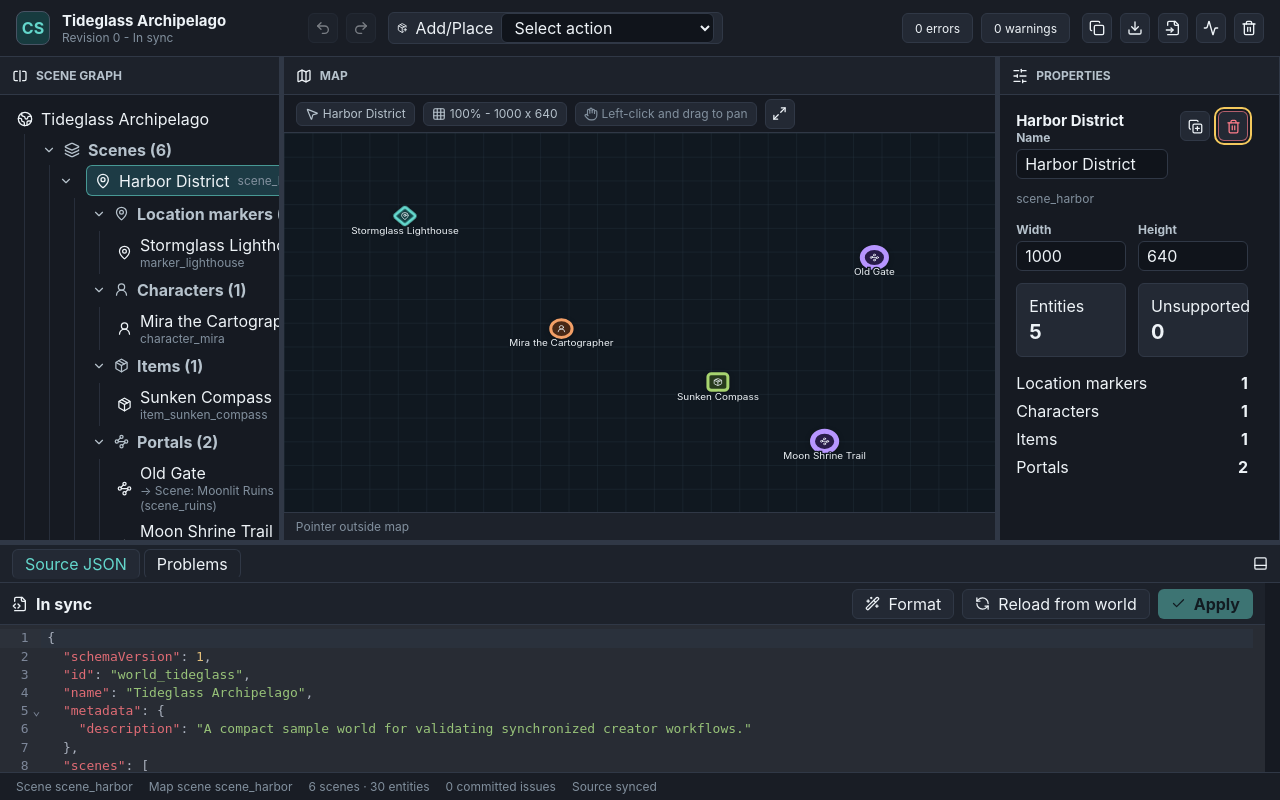
Test: rendered surface equivalence classes › traps focus, cancels with Escape, and returns focus from confirmation dialogs
Click the button named "Delete Harbor District": (1233, 126) x1=1218 y1=111 x2=1248 y2=141
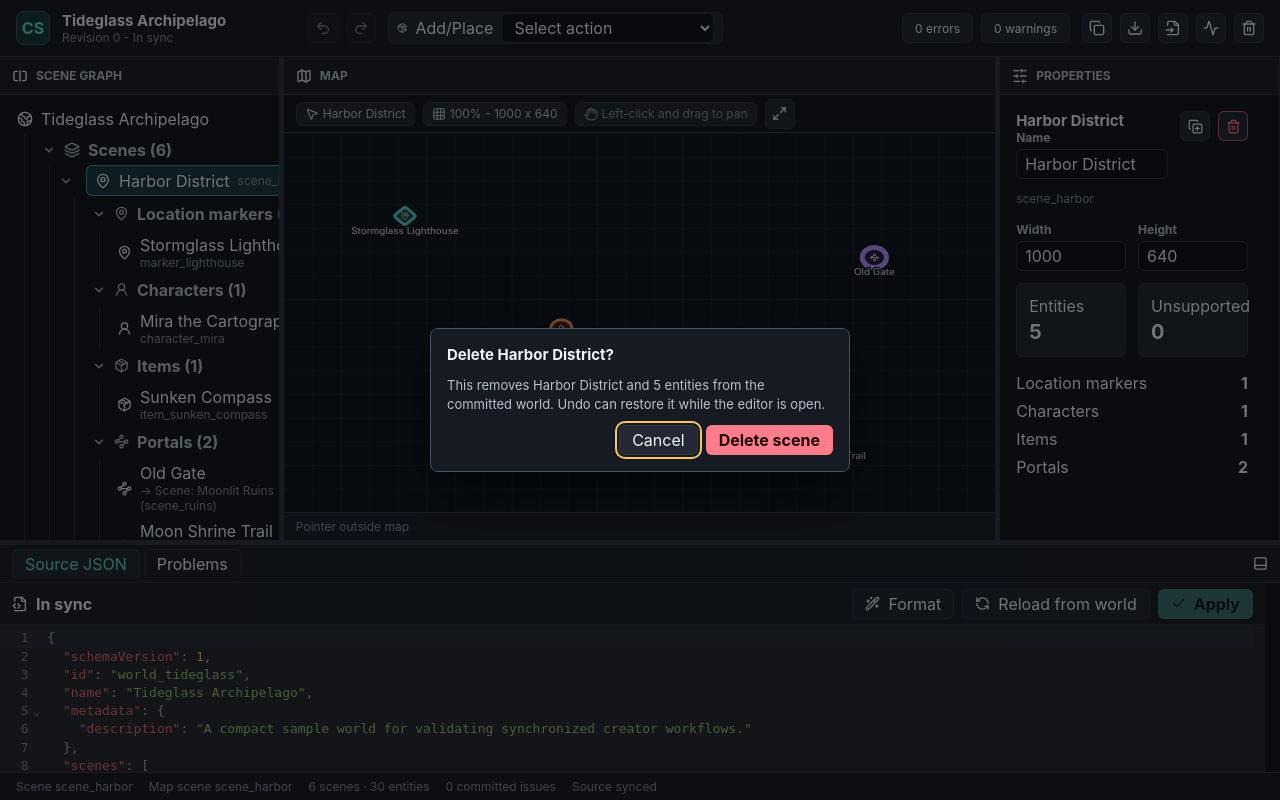
Check: the element that starts with "Tideglass Archipelago" has attribute inert
Check: the element that starts with "Tideglass Archipelago" has attribute aria-hidden="true"
Press Tab in the button "Cancel", box x1=619 y1=425 x2=698 y2=455
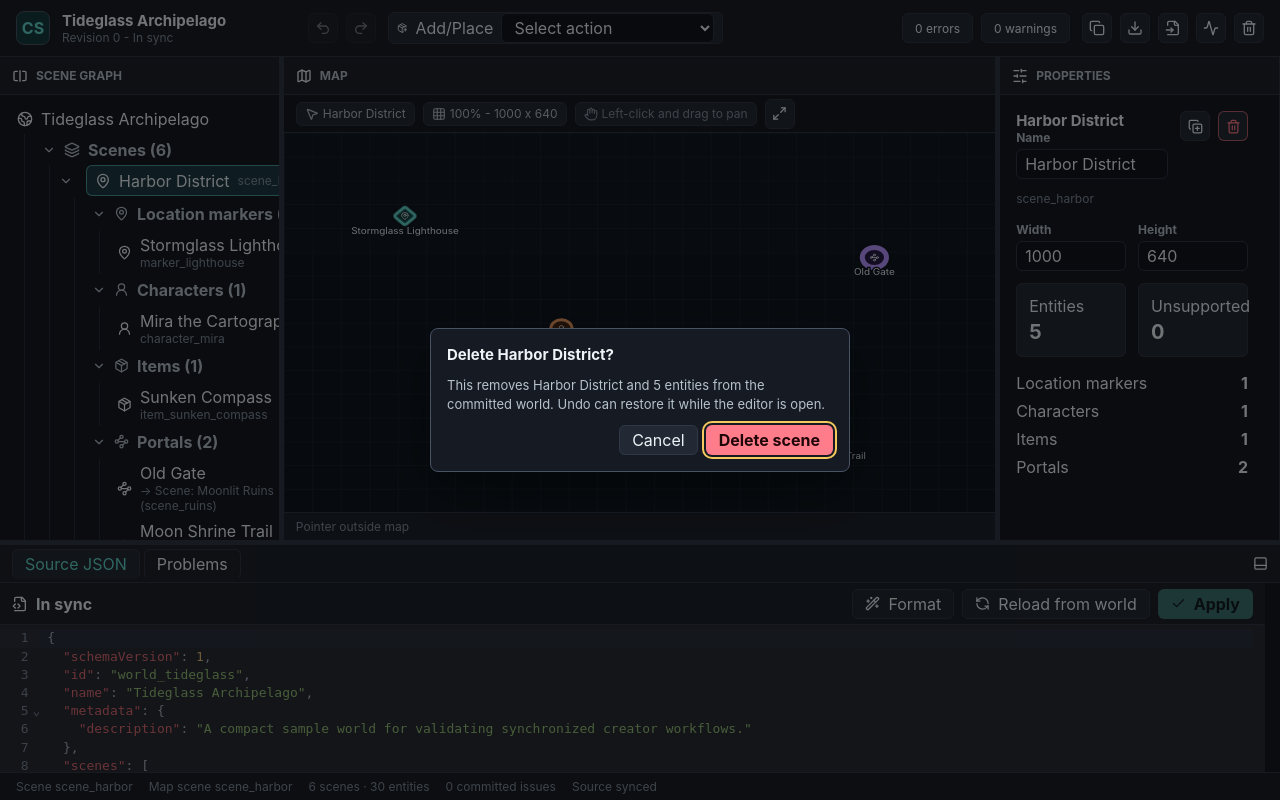
Press Tab in the button "Delete scene", box x1=706 y1=425 x2=833 y2=455
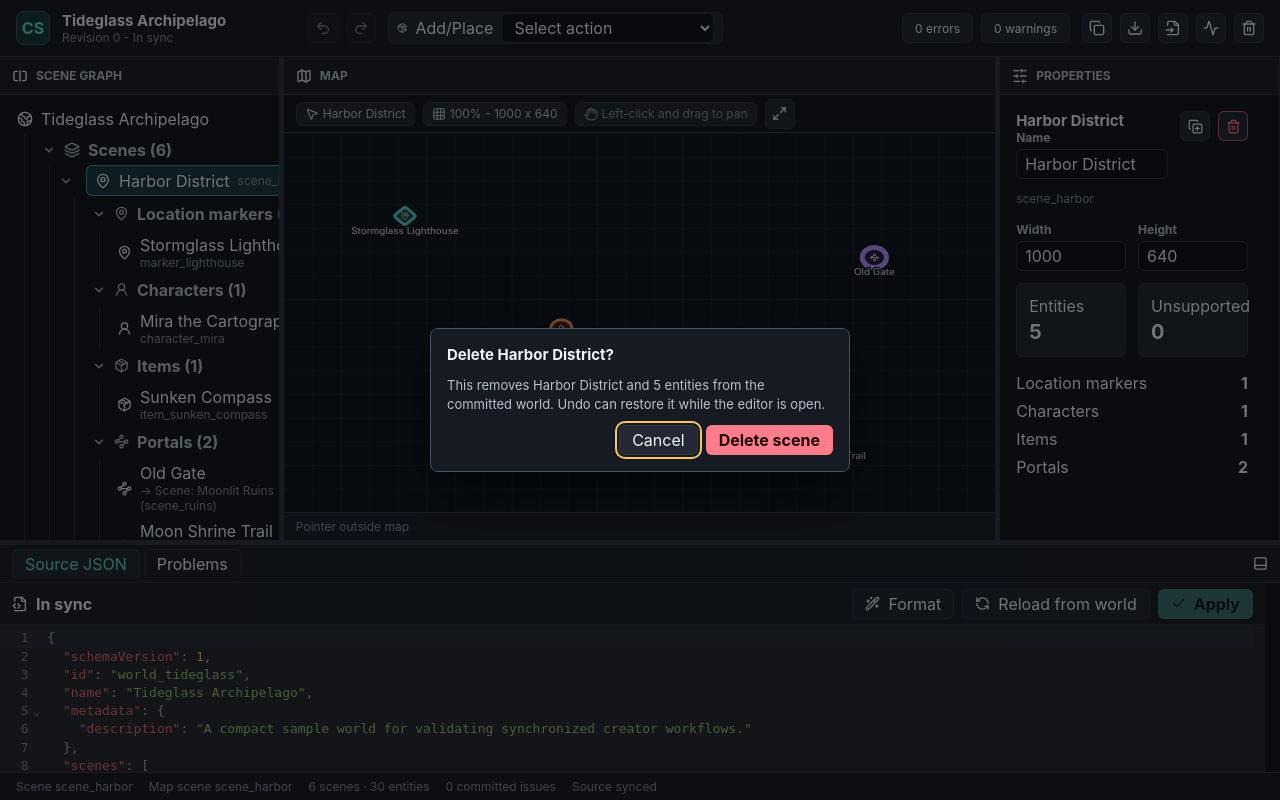
Press Escape in the dialog "Delete Harbor District?", box x1=430 y1=328 x2=850 y2=472
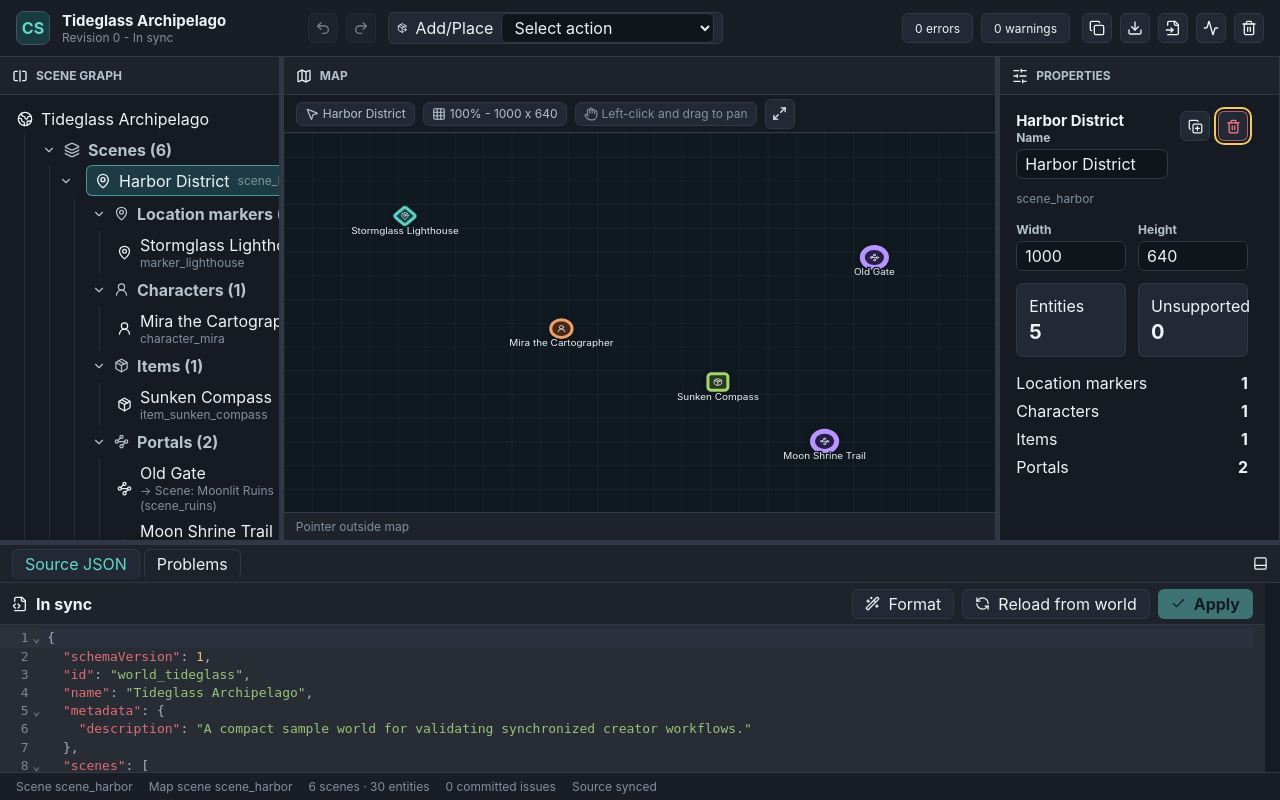
Check: the dialog is gone
